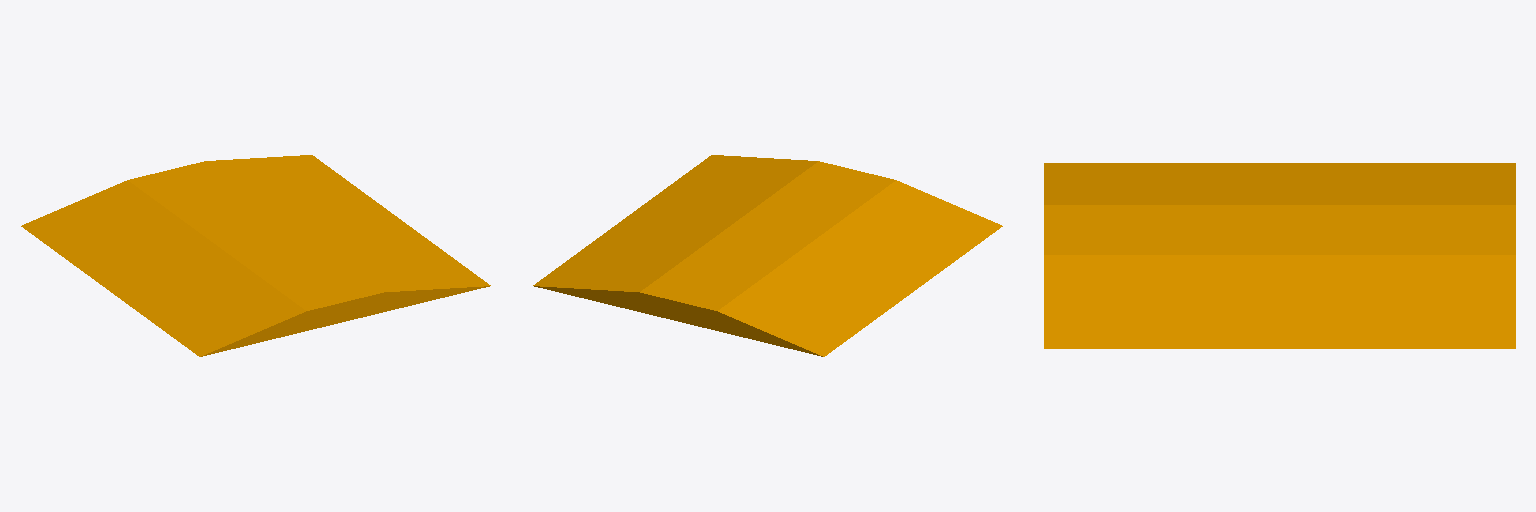
The robot description file, URDF, robot "slope":
<?xml version="1.0" ?>
<robot name="slope">

<material name="silver">
  <color rgba="0.700 0.700 0.700 1.000"/>
</material>

<link name="base_link">
  <inertial>
    <origin xyz="-0.9393654271085459 -2.5767752549811624e-16 0.04903461526686301" rpy="0 0 0"/>
    <mass value="2269.7772175819664"/>
    <inertia ixx="759.0741695940202" iyy="359.9366474103033" izz="1114.0472895375956" ixy="-9.478614775238866e-13" iyz="-2.867890371716578e-14" ixz="-2.842170943040401e-14"/>
  </inertial>
  <visual>
    <origin xyz="0 0 0" rpy="0 0 0"/>
    <geometry>
      <mesh filename="base_link.stl" scale="0.001 0.001 0.001"/>
    </geometry>
    <material name="silver"/>
    <material/>
  </visual>
  <collision>
    <origin xyz="0 0 0" rpy="0 0 0"/>
    <geometry>
      <mesh filename="base_link.stl" scale="0.001 0.001 0.001"/>
    </geometry>
  </collision>
</link>

</robot>

--- Render facts (derived) ---
3 views of the same robot in one strip: view 1: azimuth 30°, elevation 25°; view 2: azimuth 150°, elevation 25°; view 3: azimuth 270°, elevation 25° (orthographic).
Model slope with 1 links and 0 joints (none), rooted at base_link, posed all joints at 0.
Visible links, largest first — view 1: base_link; view 2: base_link; view 3: base_link.
Boxes of the visible links, box(x1,y1,x2,y2) form: base_link: box(21, 155, 490, 356); base_link: box(533, 155, 1002, 356); base_link: box(1044, 163, 1515, 348).
Bounding box of the posed robot: 1.88 × 2 × 0.1216 m (x, y, z).
Meshes: 1 distinct files referenced, 1 mesh visuals loaded (1 binary STL).